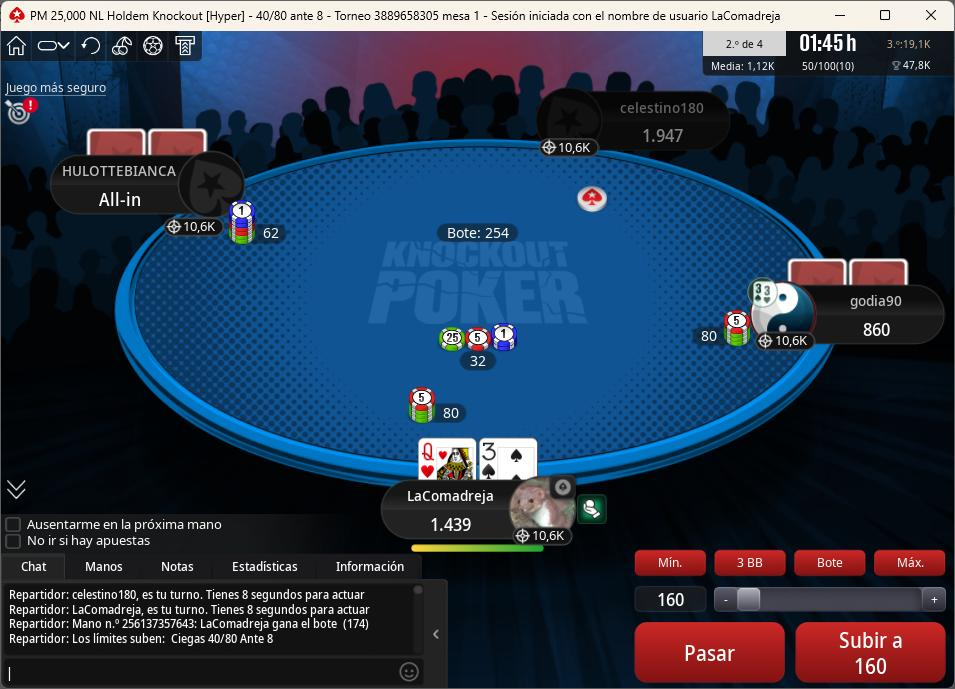ButtonCall: (620, 615, 782, 686)
ButtonMaxRaise: (871, 546, 948, 581)
ButtonMinRaise: (634, 549, 711, 581)
ButtonPotRaise: (790, 546, 866, 582)
ButtonRaise: (792, 618, 949, 686)
Dealer: (574, 186, 609, 214)
HiddenCards: (84, 133, 219, 161), (785, 259, 912, 286)
Player: (748, 282, 950, 351), (49, 155, 245, 218), (546, 96, 736, 160)
PlayerBet: (229, 198, 296, 250), (689, 307, 756, 351)
PlayerChips: (92, 190, 149, 211), (859, 322, 902, 343)
Pot: (435, 224, 522, 244)
PrincipalBet: (407, 388, 473, 426)
PrincipalCards: (416, 439, 544, 484)
PrincipalCards1: (415, 436, 478, 482)
PrincipalCards2: (481, 436, 542, 482)
PrincipalPlayer: (381, 477, 586, 552)
PrincipalPlayerChips: (423, 518, 485, 538)
SmallBigBlind: (247, 6, 334, 29)
TablePot: (439, 322, 546, 377)
